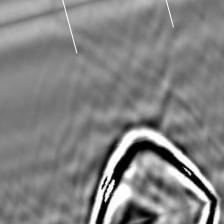Utility: (86, 121, 224, 224)
